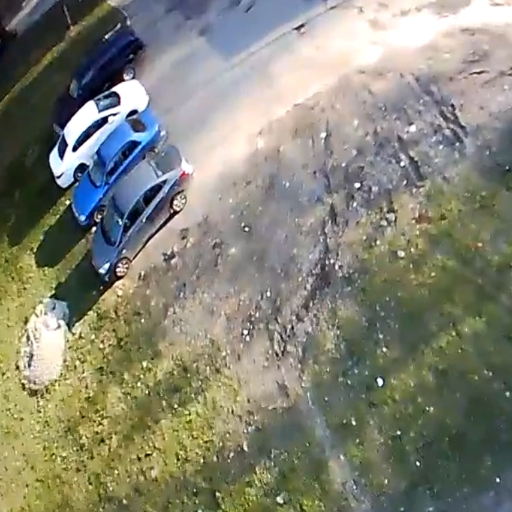Car: (88, 142, 190, 280), (48, 78, 147, 188), (71, 110, 162, 227), (63, 26, 144, 107)
